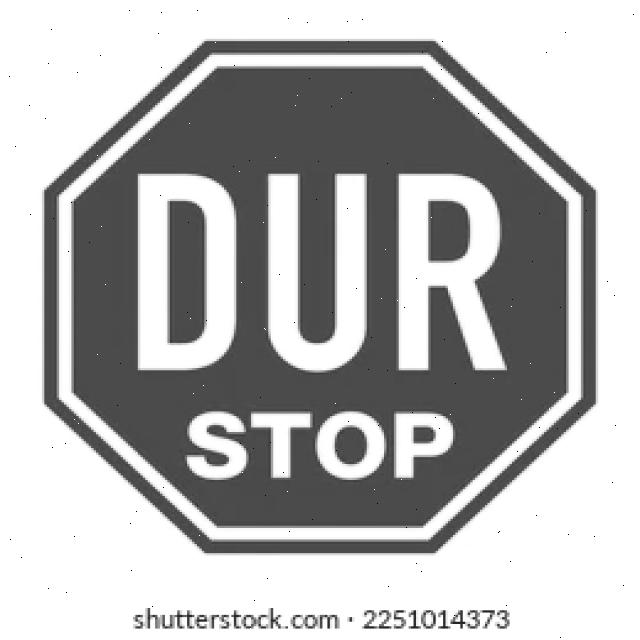Stop-sign: (25, 32, 606, 562)
